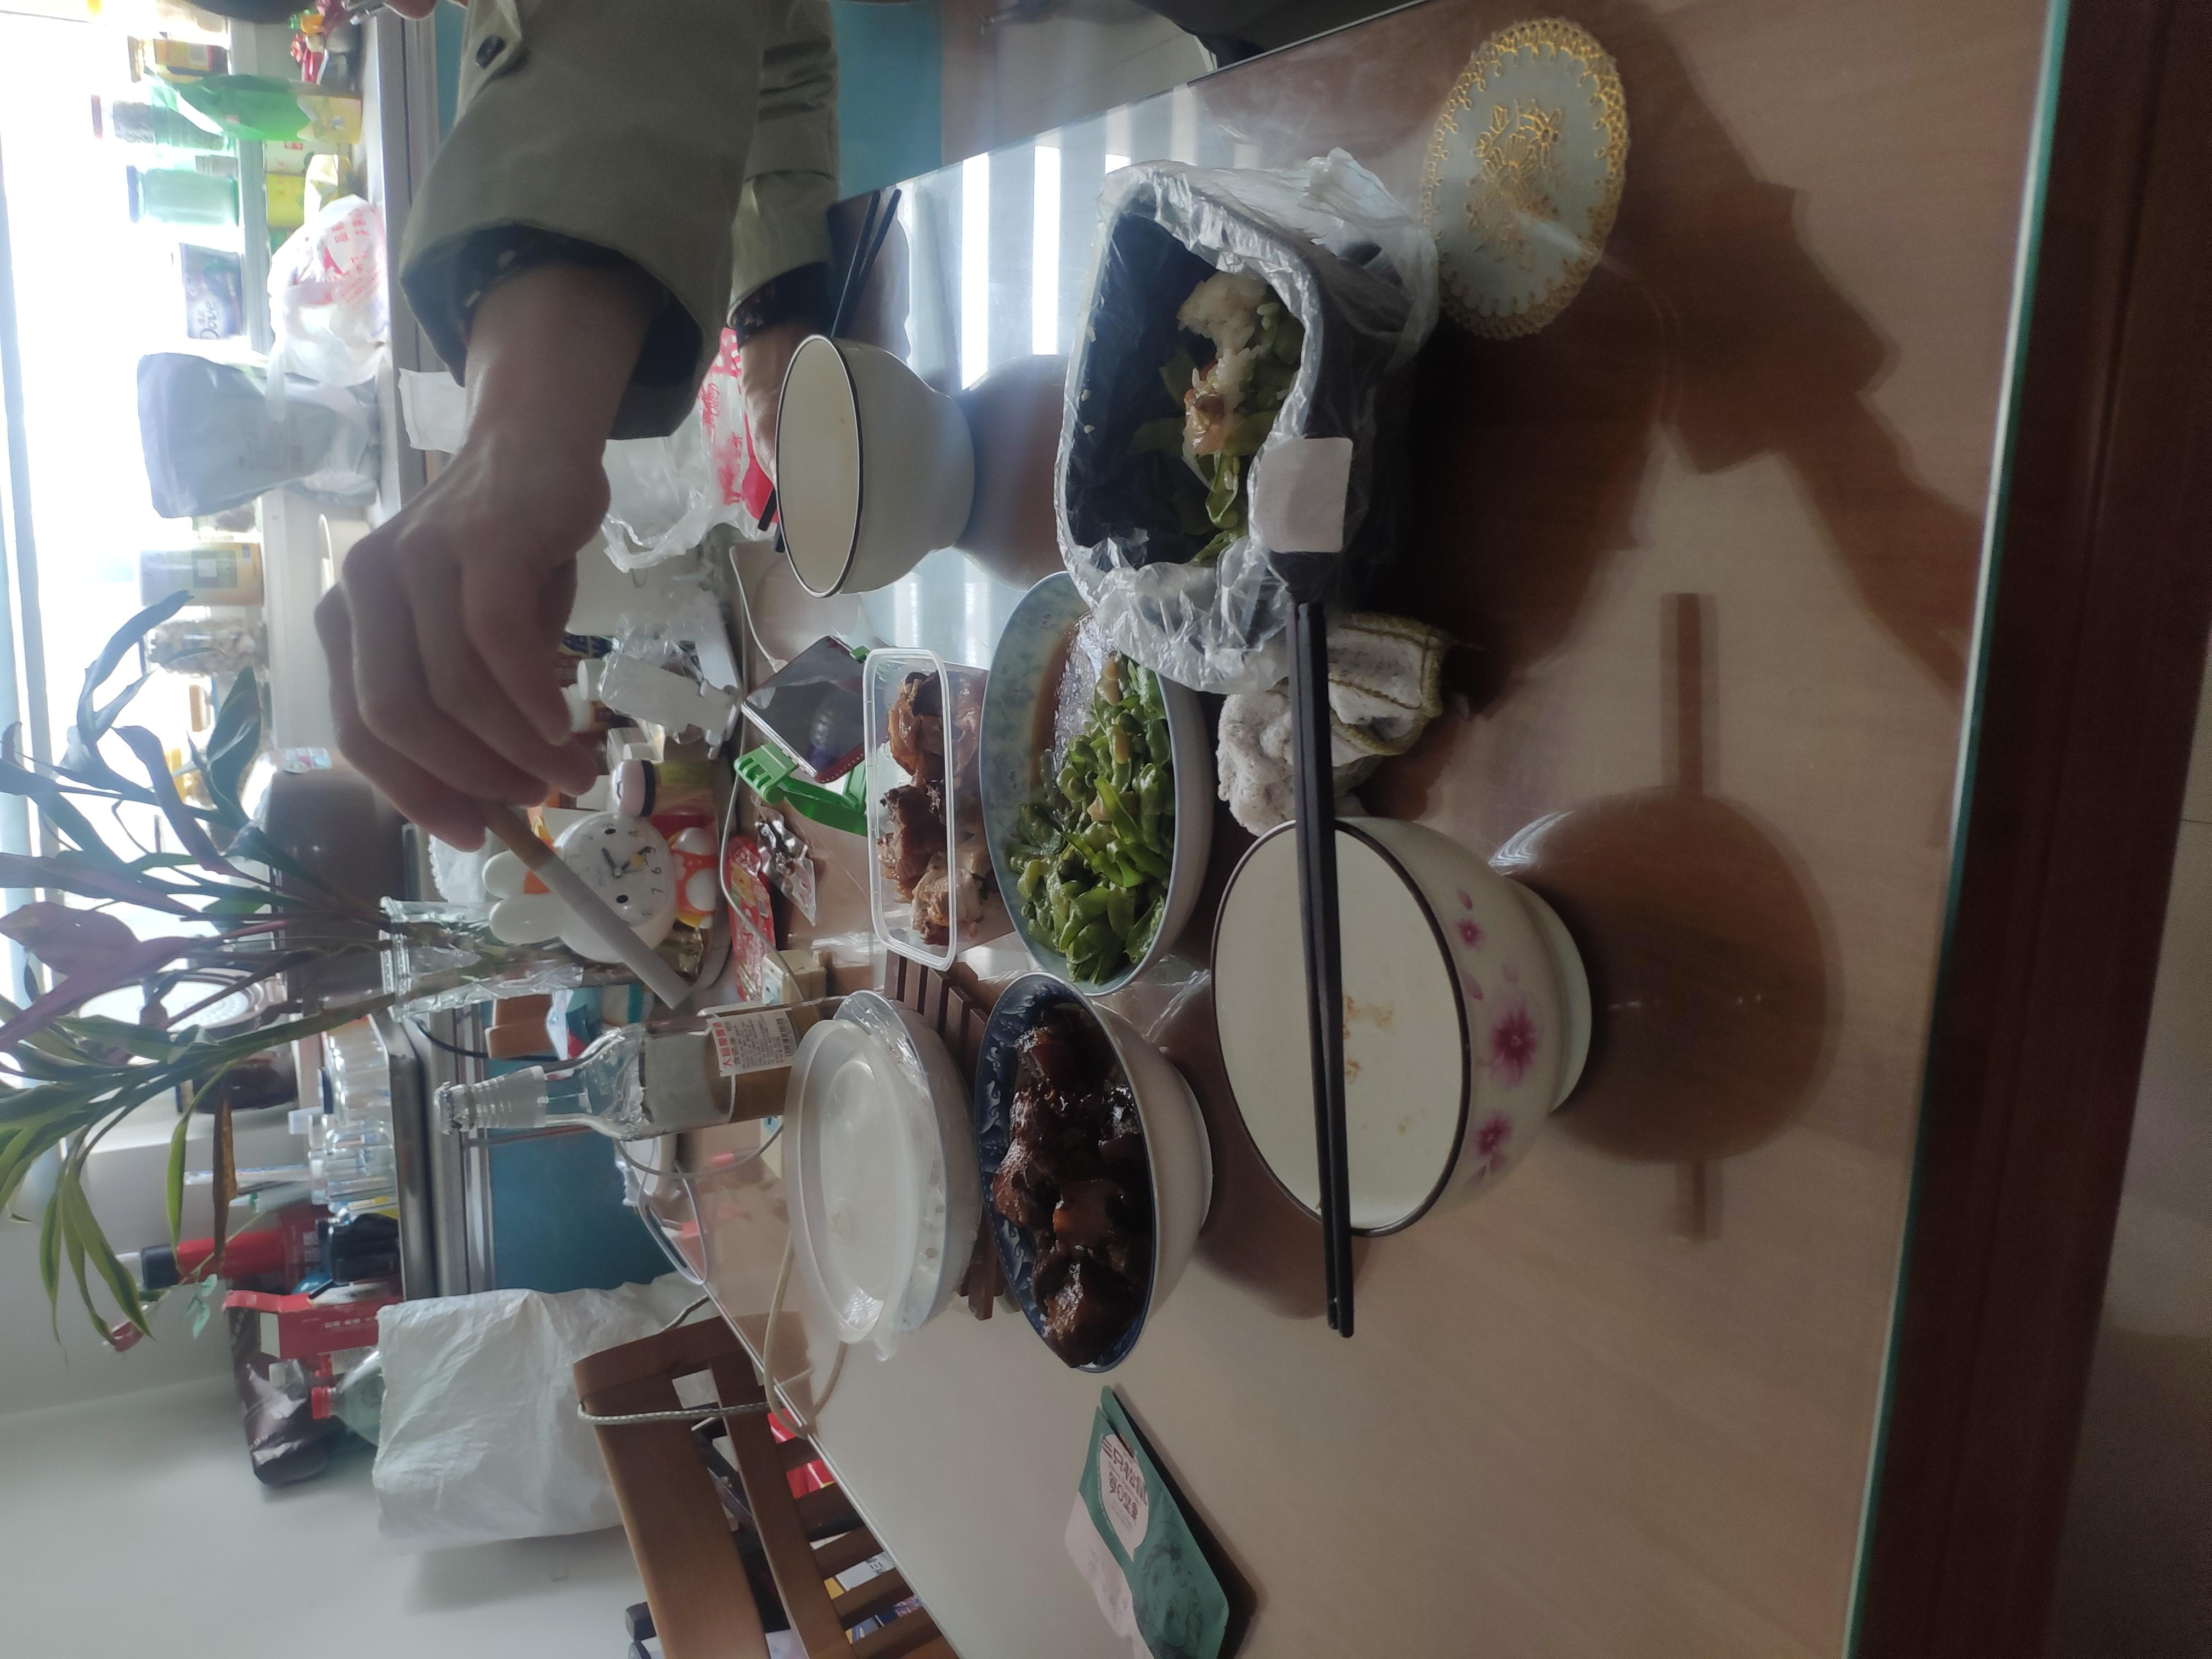smoke: (867, 349, 1167, 519)
